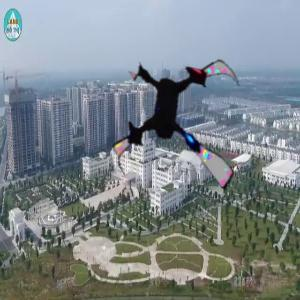drone: (103, 45, 262, 204)
